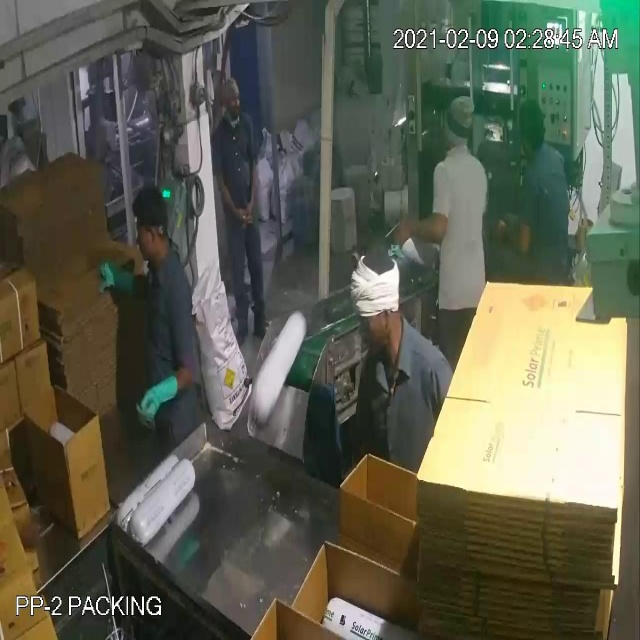Guantes: (133, 365, 194, 431), (82, 245, 142, 305)
Sin_guantes: (211, 164, 256, 231), (388, 205, 453, 245), (494, 208, 541, 260), (238, 154, 264, 217)
